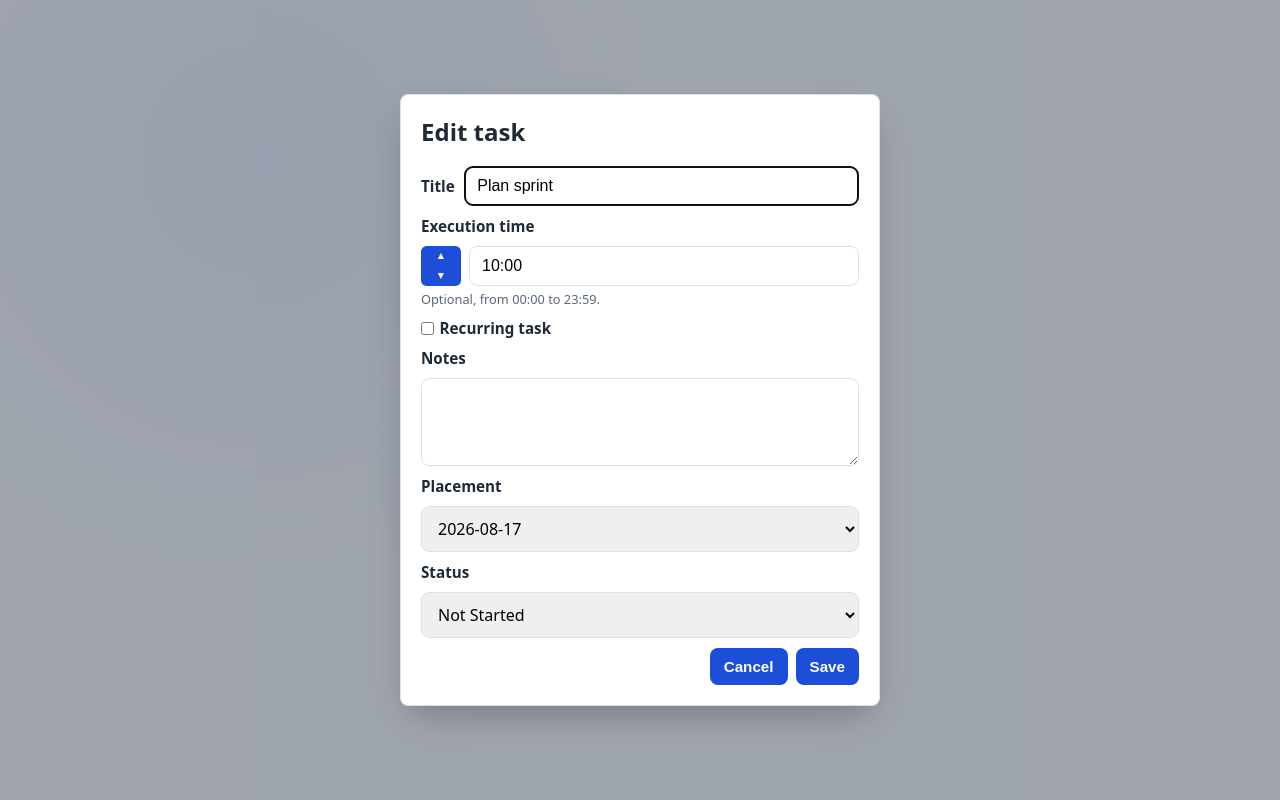
Test case: TaskEditor execution time › initializes with the existing time and supports 30-minute steps
The image size is (1280, 800).
Expected: the field labelled "Execution time" holds "10:00", [469,246,859,286]
Click the button named "Increase execution time by 30 minutes": (441, 256) [421,246,461,266]
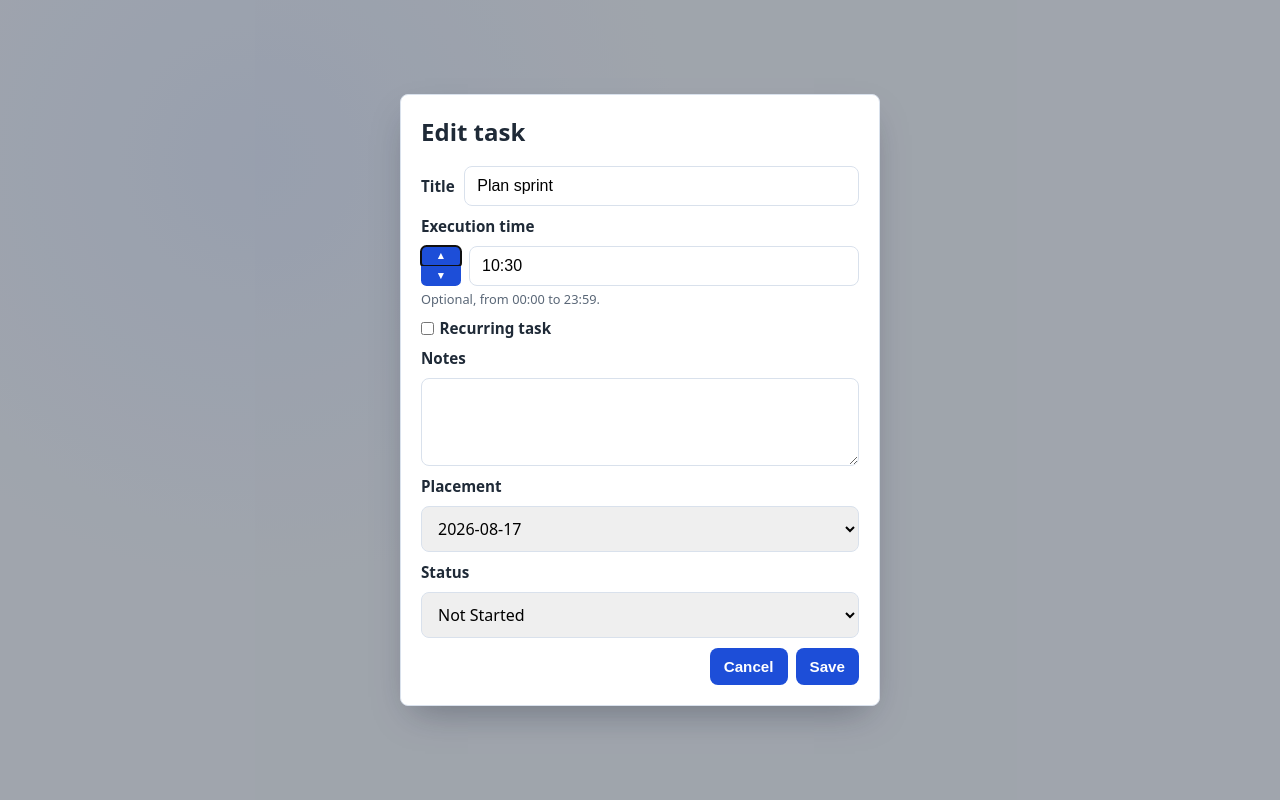
Result: the field labelled "Execution time" holds "10:30" at [469,246,859,286]
Click the button named "Decrease execution time by 30 minutes": (441, 276) [421,266,461,286]
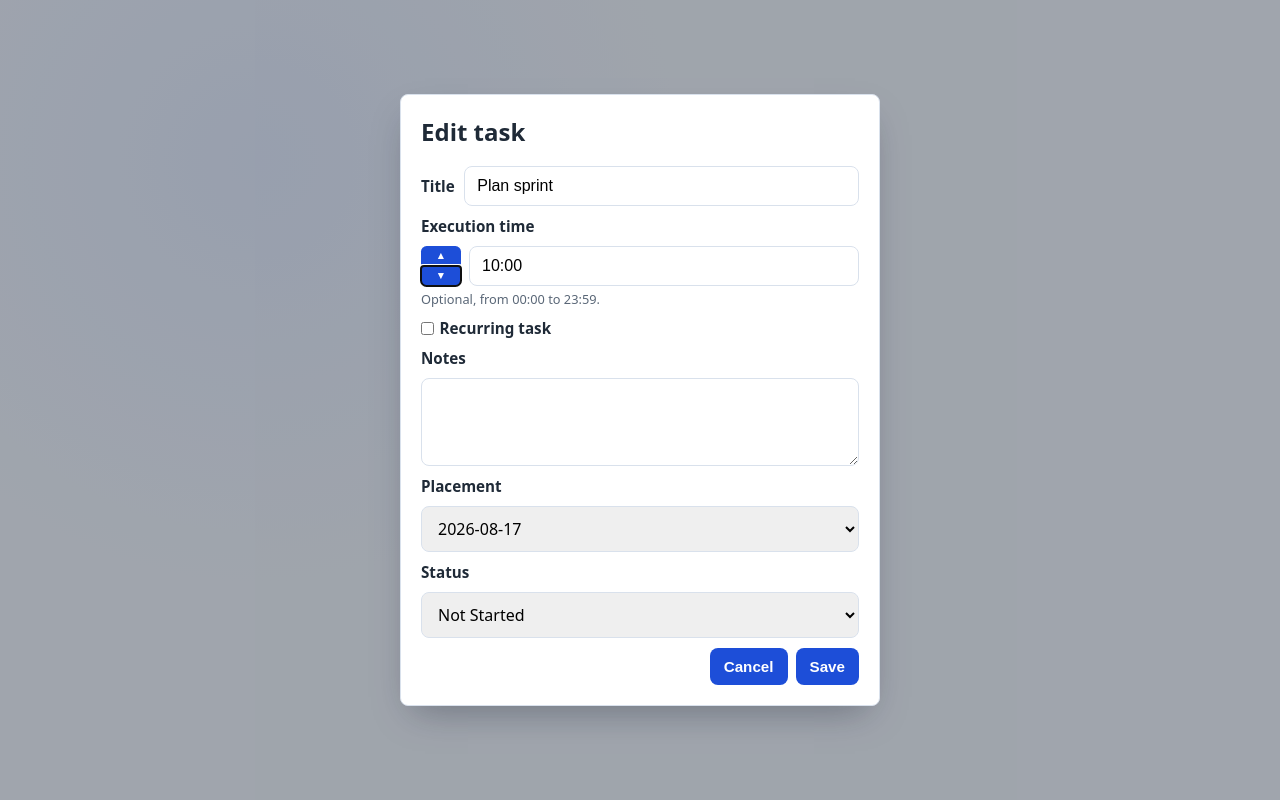
Result: the field labelled "Execution time" holds "10:00" at [469,246,859,286]
